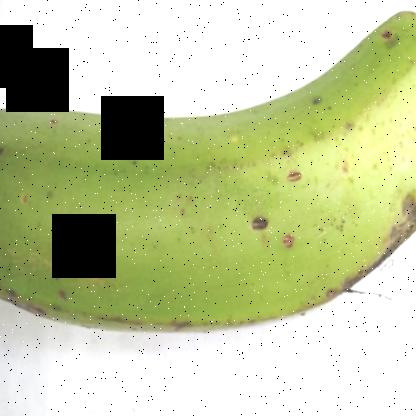unripe: (1, 1, 415, 366)
